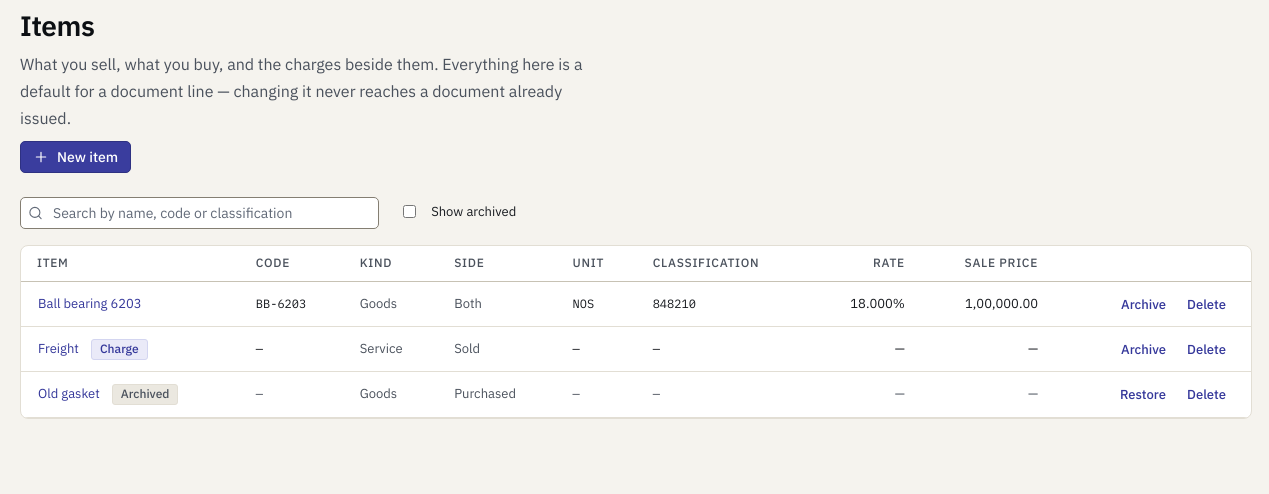
Scenario: the list › says so when a search matches nothing
expect the button "Freight" is shown: met, box [29,335,88,364]
Type "zzz" into the field with placeholder "Search by name, code or classification" at (200, 213), box [20,197,379,229]
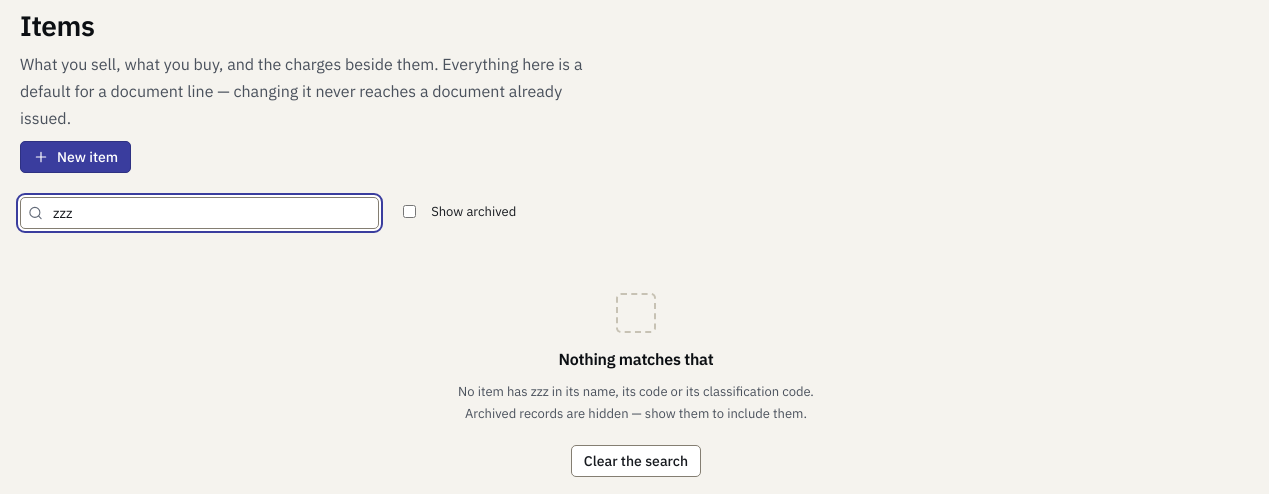
expect the heading "Nothing matches that" is shown: met, box [558,349,713,369]
